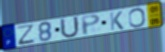8: (37, 21, 53, 43)
K: (109, 10, 125, 31)
O: (128, 7, 147, 29)
P: (80, 13, 102, 37)
U: (59, 15, 81, 39)
Z: (17, 23, 36, 46)
